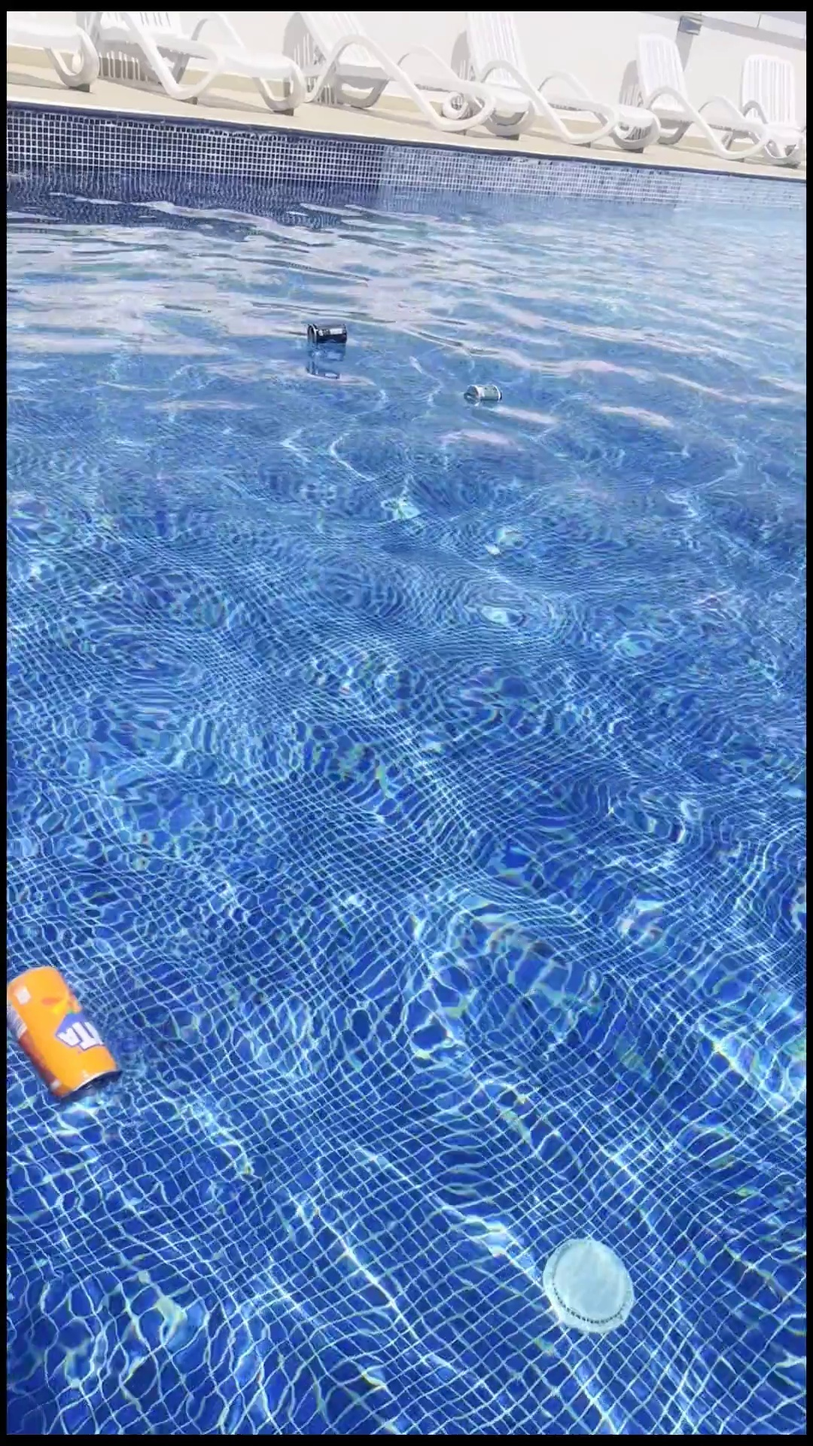debris: (8, 930, 121, 1112), (301, 310, 348, 368), (460, 365, 503, 422)
